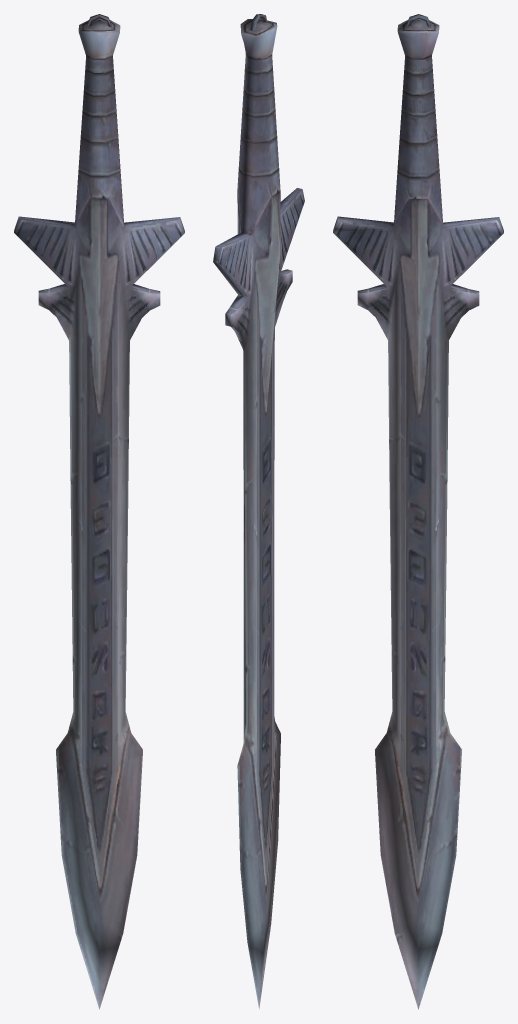
File: wep_swd_practice_sword.glb
3 views of the same model, side by side, from view 1: azimuth 90°, elevation 25°; view 2: azimuth 150°, elevation 25°; view 3: azimuth 270°, elevation 25° (orthographic).
Parts seen in each view (by area): view 1: wep_swd_practice_sword; view 2: wep_swd_practice_sword; view 3: wep_swd_practice_sword.
Part boxes in pixels (x1,y1,x2,y2): wep_swd_practice_sword: [14, 14, 184, 1009]; wep_swd_practice_sword: [213, 14, 304, 1008]; wep_swd_practice_sword: [333, 14, 503, 1009].
Bounding box in the file's own units: 0.00719 × 0.1605 × 0.025.
1 material, 1 textured.
